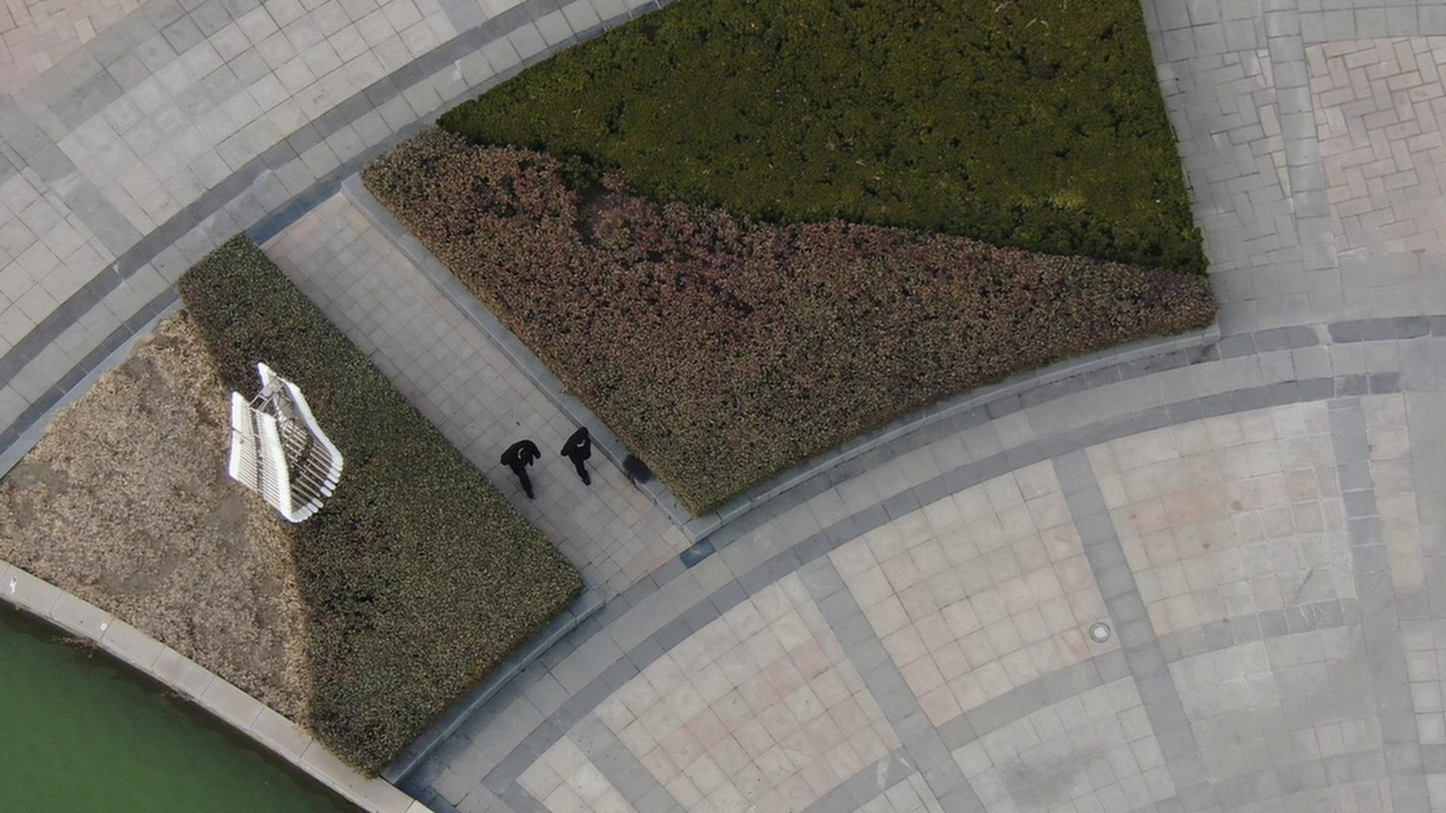human: (490, 433, 540, 507), (557, 420, 589, 492)
